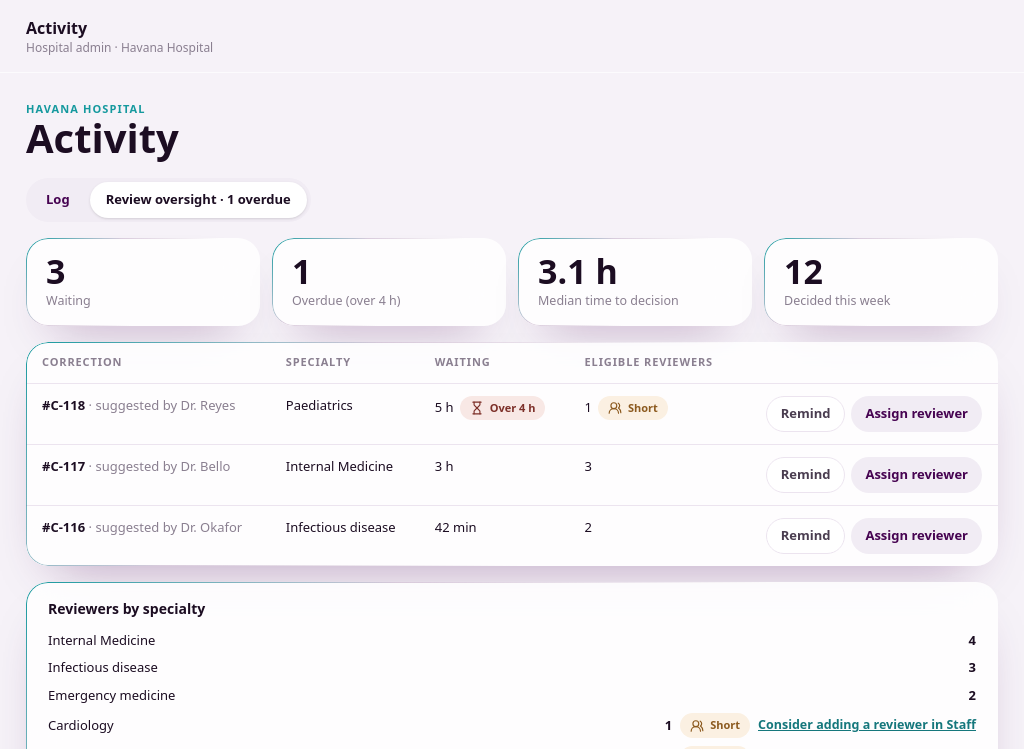
Test: OversightView › reminds the reviewers
The width and height of the screenshot is (1024, 749).
Click the button with aria-label "Remind reviewers about C-117" at x=806, y=475, box x1=766 y1=457 x2=846 y2=493
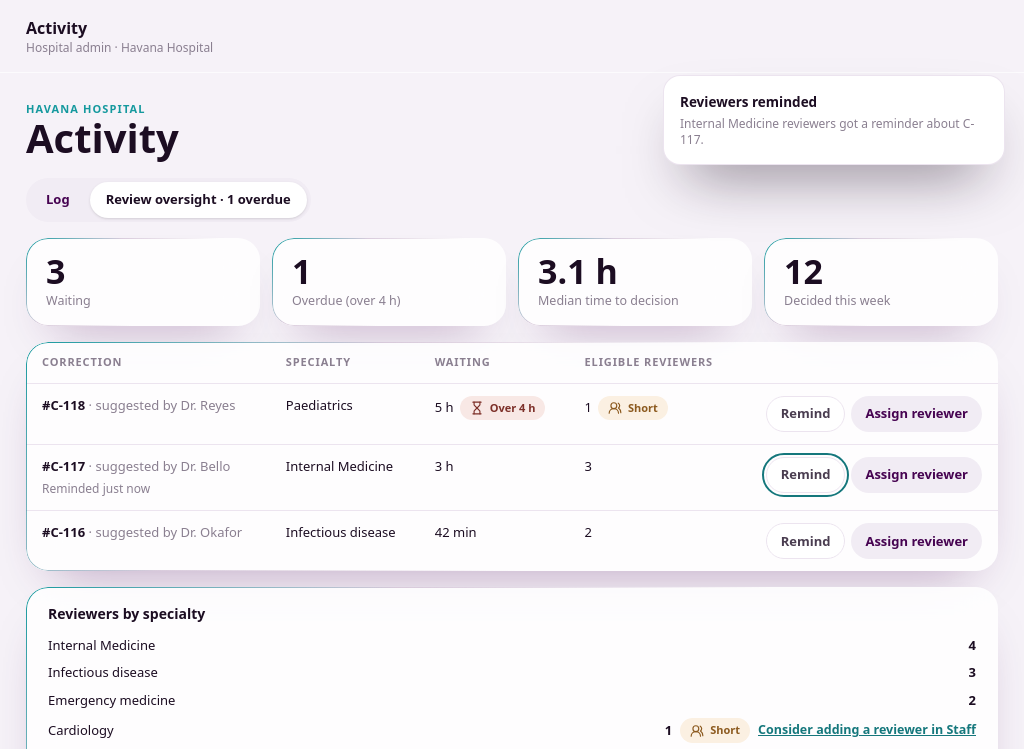
Expected: the text "Reviewers reminded" is shown, x1=680 y1=93 x2=817 y2=111
Expected: the text "#C-117" shows "Reminded", x1=42 y1=480 x2=103 y2=497
